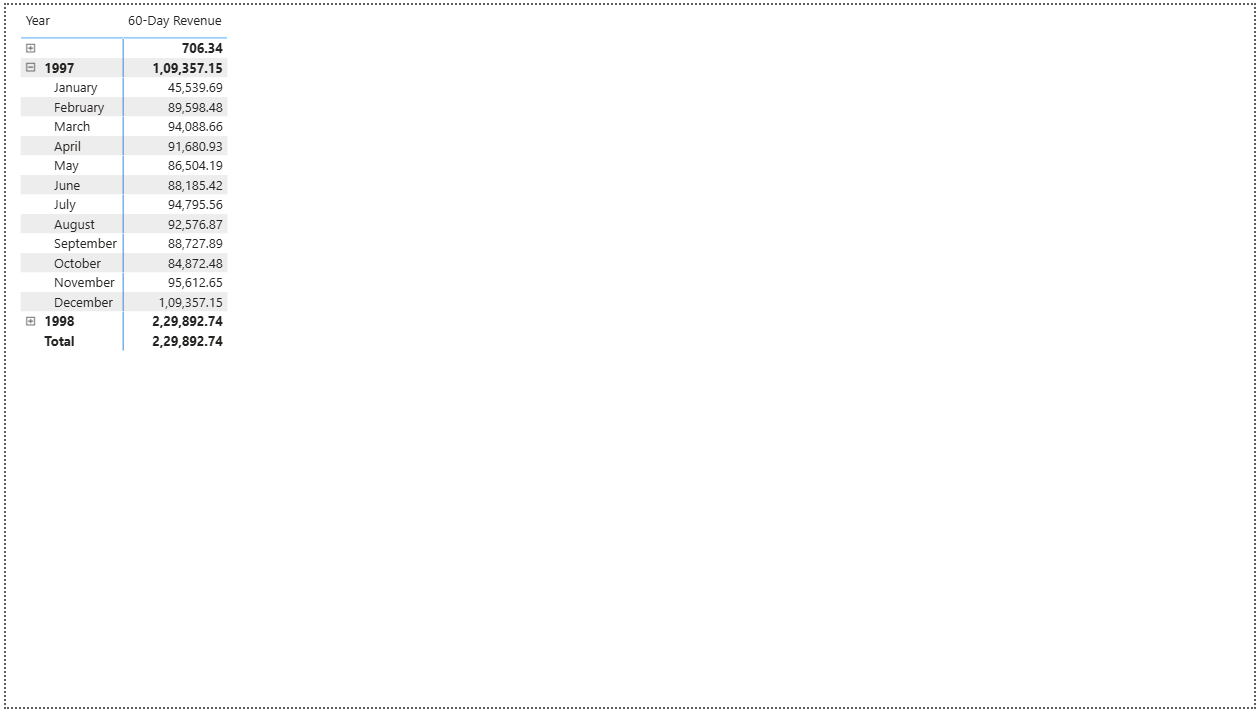

What the dashboard file says about the page in this screenshot:
{"tool":"powerbi","page":{"name":"60-Day Revenue","canvas":[1280,720],"ordinal":2},"visuals":[{"type":"pivotTable","fields":{"Values":["MavenMarket Transactions.60-Day Revenue"],"Rows":["MavenMarket_Calendar.date.Variation.Date Hierarchy.Year","MavenMarket_Calendar.date.Variation.Date Hierarchy.Month"]},"box":[9.8,0,479.4,698.2],"z":0}]}

Visuals, with their boxes in screenshot pixels (x1, y1, x2, y2), scaled from the page's 1280x720 canvas onto the 1260x715 screenshot:
pivotTable - MavenMarket Transactions.60-Day Revenue x MavenMarket_Calendar.date.Variation.Date Hierarchy.Year: <bbox>10, 0, 482, 693</bbox>
